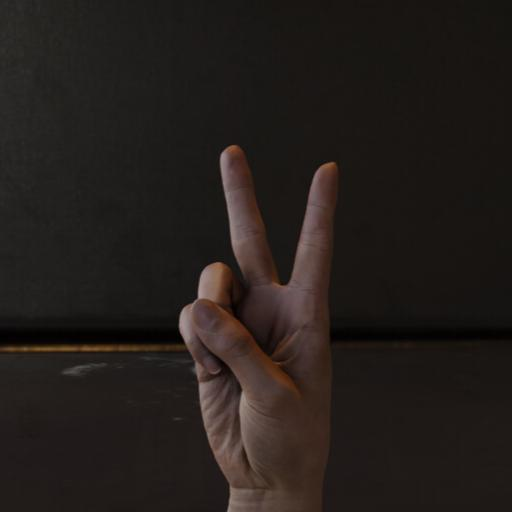V: (164, 138, 356, 508)
